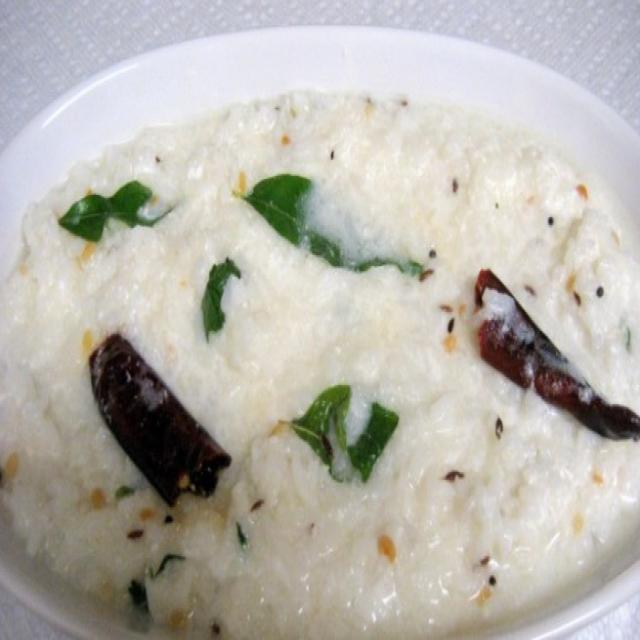CURD RICE: (0, 84, 639, 636)
